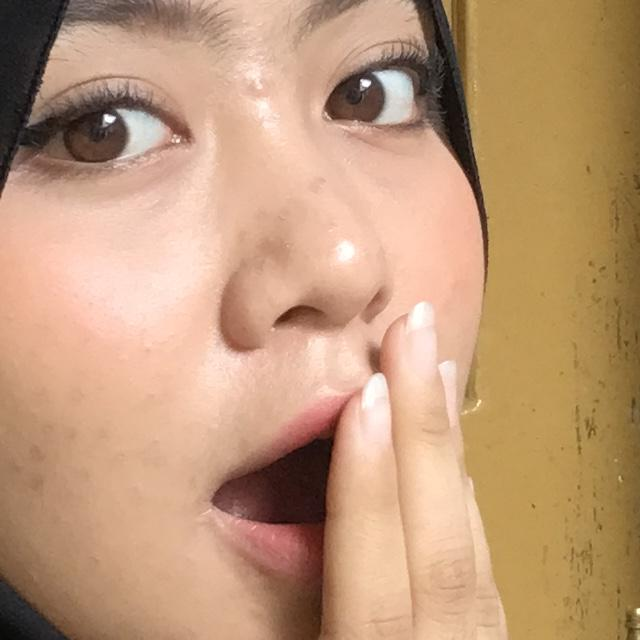ngantuk: (40, 296, 640, 640)
